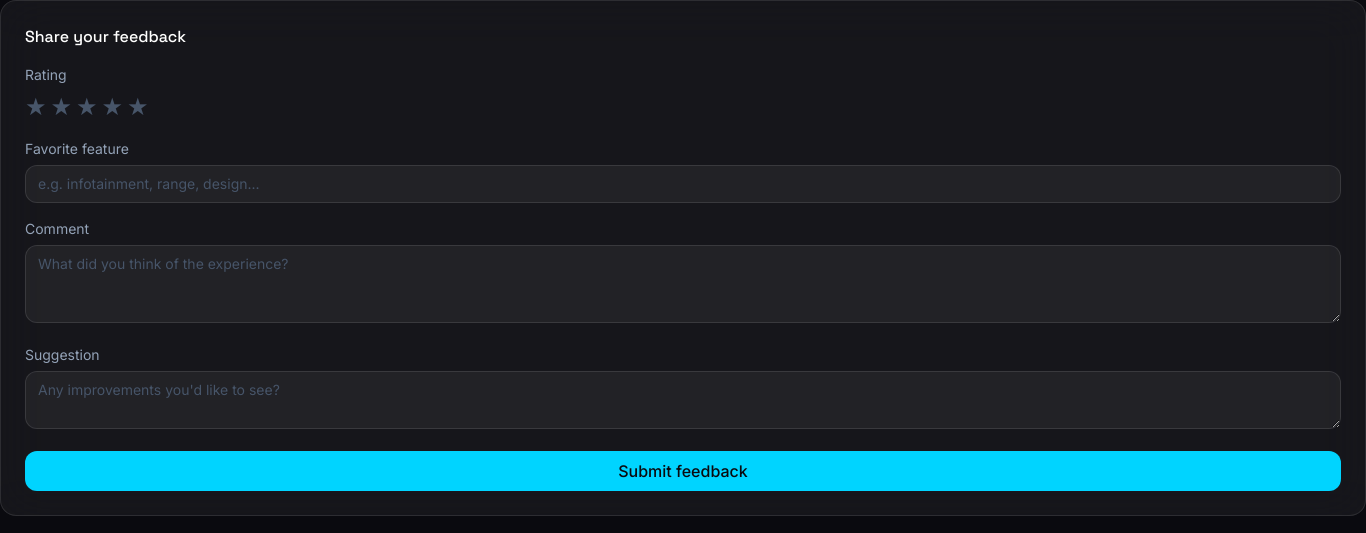
Test: FeedbackForm › shows the thank-you state and sentiment after successful submission
The width and height of the screenshot is (1366, 533).
What coordinates should you click on to do the following:
click the button "Submit feedback"
I would click on:
 (683, 471)
Its box is [25,451,1341,491].
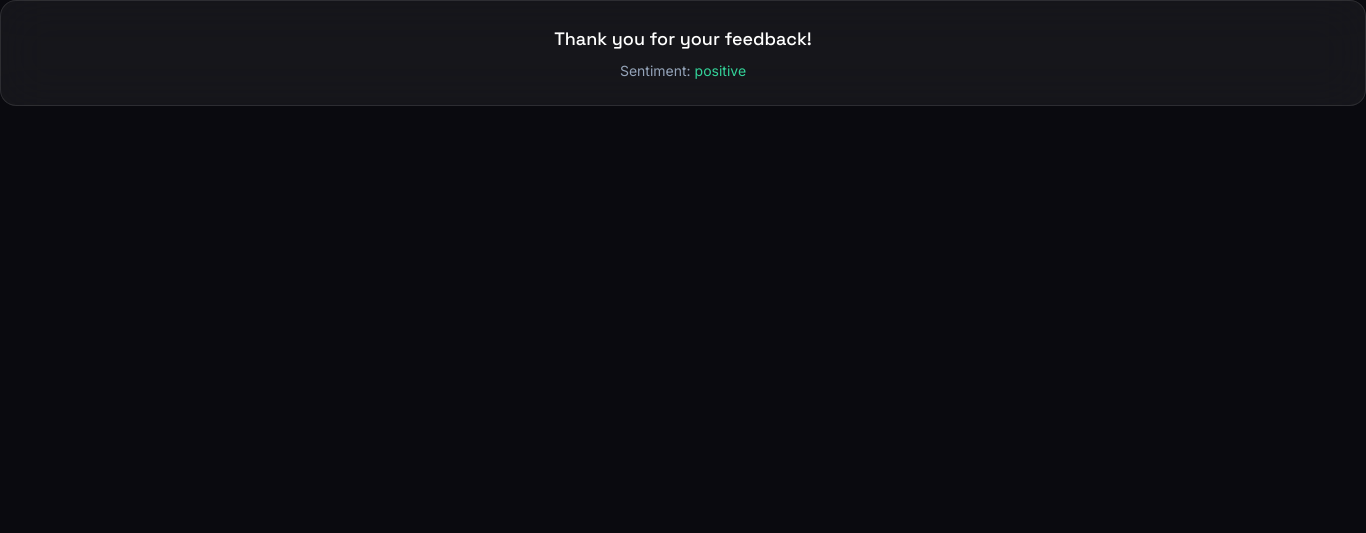
Check: the text "Thank you for your feedback!" is shown, box [554,27,812,50]
Check: the text "positive" is shown, box [695,62,746,79]
